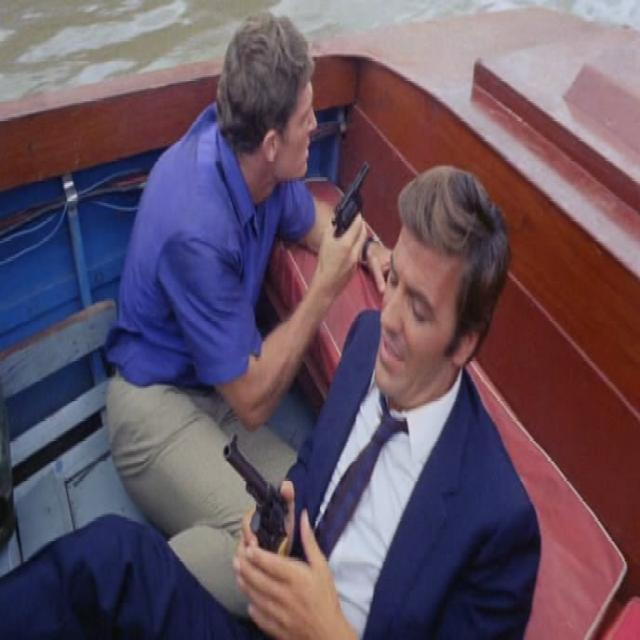gun-knife-thesis - v11 Yolov5 augmented: (219, 422, 294, 626), (327, 157, 377, 271)
